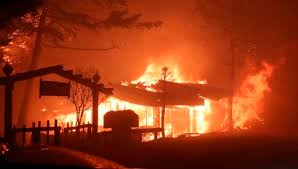fire: (59, 62, 276, 140)
